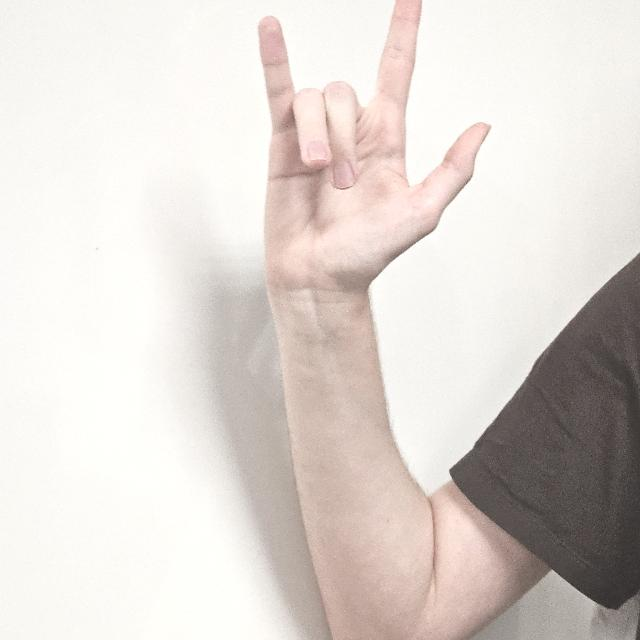Cima: (250, 0, 490, 290)
